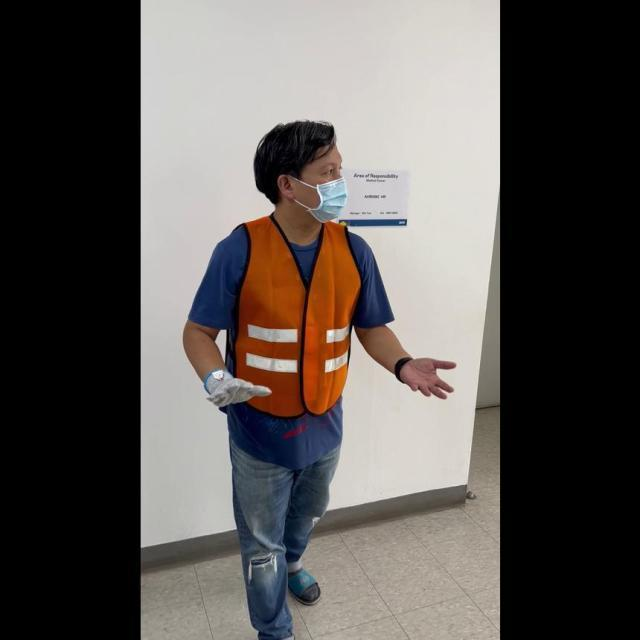bare_hand: (397, 353, 455, 400)
gloved_hand: (199, 363, 268, 412)
